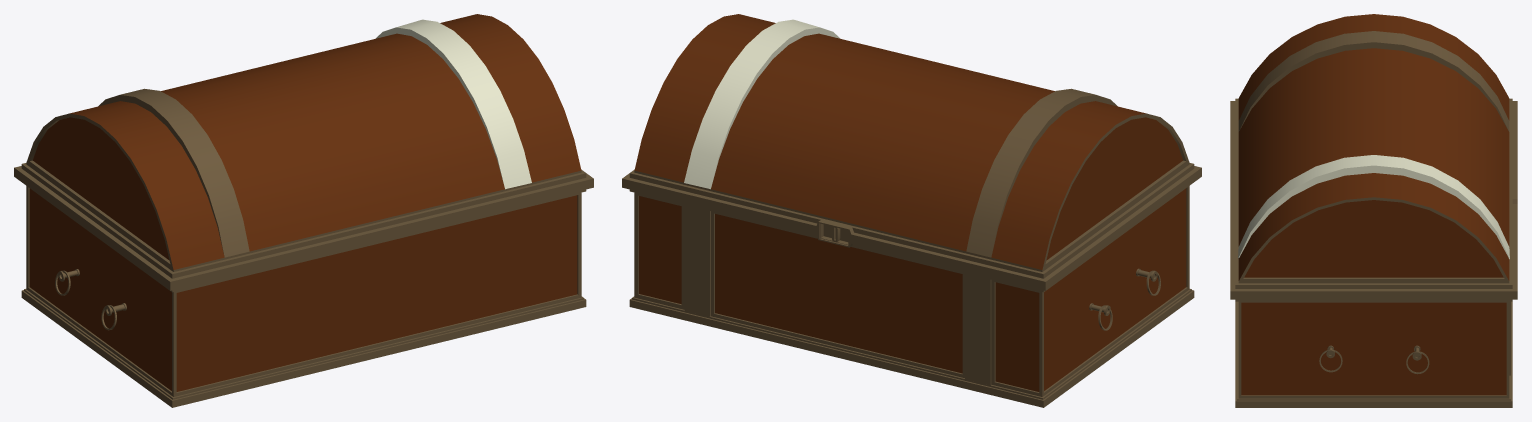
File: Chest.obj
3 views of the same model, side by side, from view 1: azimuth 30°, elevation 25°; view 2: azimuth 150°, elevation 25°; view 3: azimuth 270°, elevation 25° (orthographic). The views are drawn at different scales.
Visible parts, largest first — view 1: Mesh5 Model; view 2: Mesh5 Model; view 3: Mesh5 Model.
Boxes of the visible parts, x1=… form: Mesh5 Model: x1=14, y1=14, x2=593, y2=407; Mesh5 Model: x1=622, y1=14, x2=1201, y2=407; Mesh5 Model: x1=1230, y1=14, x2=1517, y2=407.
Bounding box in the file's own units: 282 × 144 × 173.
